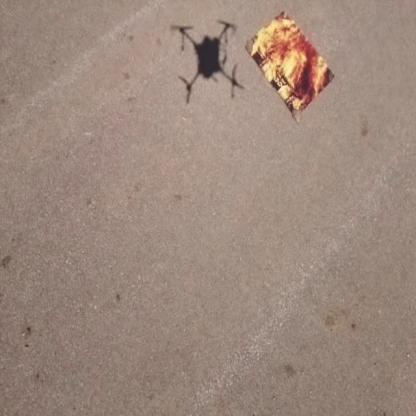fire-poster: (245, 9, 335, 124)
